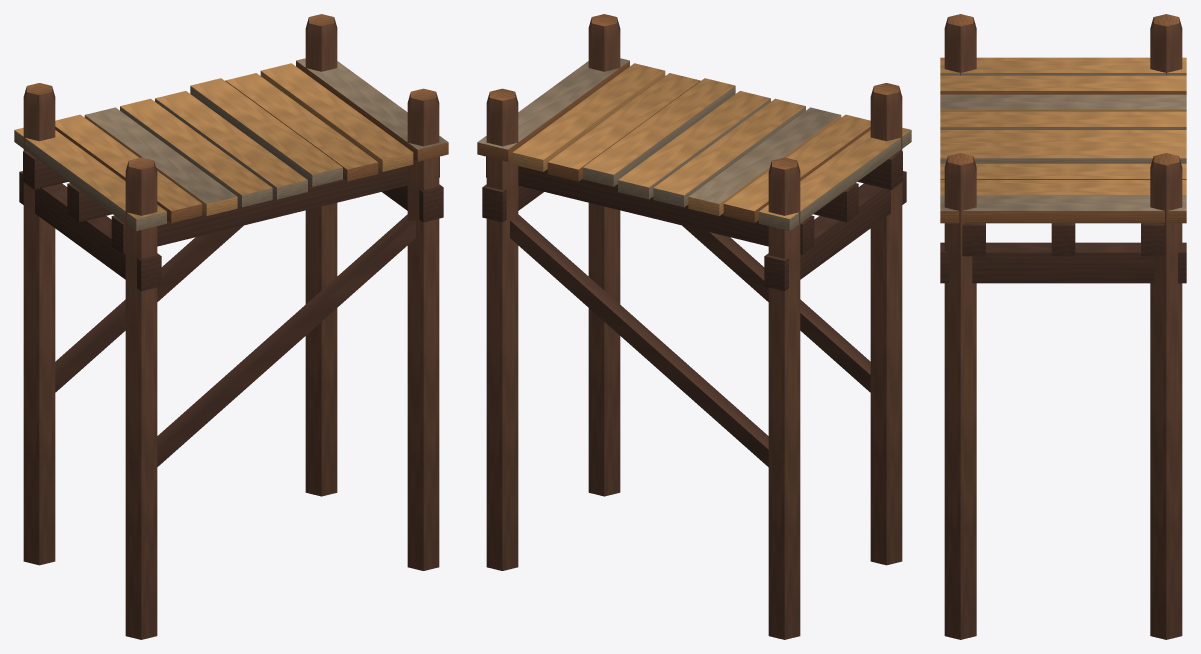
File: dock_narrow_01.glb
3 renders of one model, left to right at view 1: azimuth 30°, elevation 25°; view 2: azimuth 150°, elevation 25°; view 3: azimuth 270°, elevation 25°, orthographic.
Visible parts, largest first — view 1: dock_narrow_01; view 2: dock_narrow_01; view 3: dock_narrow_01.
Boxes of the visible parts, bbox=[...] form: dock_narrow_01: bbox=[14, 14, 448, 639]; dock_narrow_01: bbox=[477, 14, 911, 639]; dock_narrow_01: bbox=[940, 14, 1186, 639].
Bounding box in the file's own units: 2.19 × 3.1 × 1.46.
Materials: 1 (1 with a texture image).
